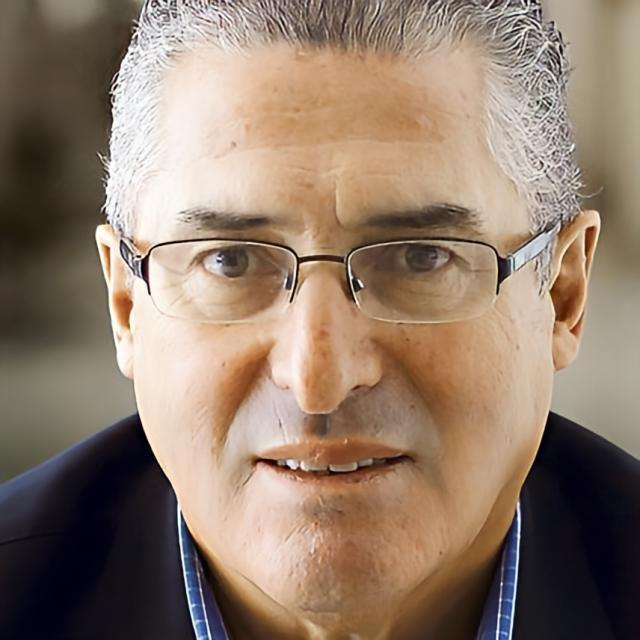disgust: (128, 46, 554, 614)
